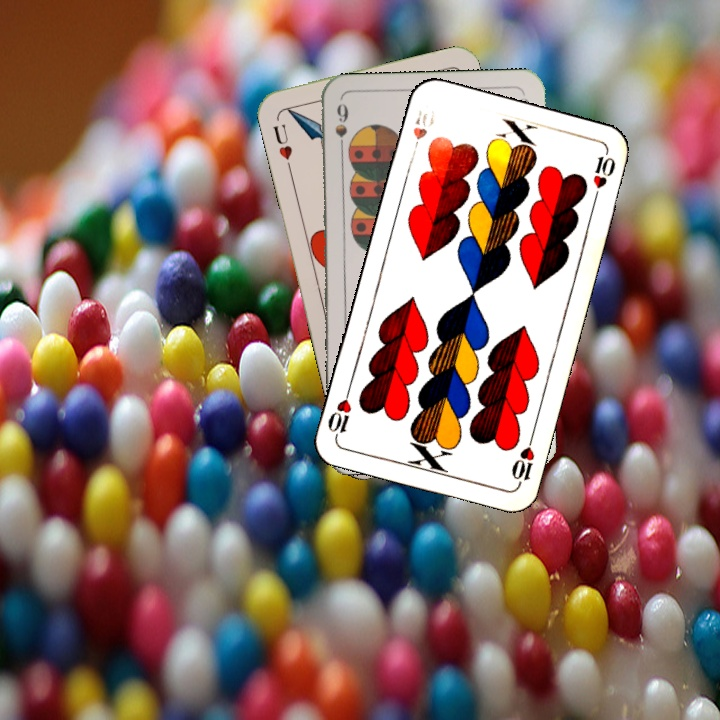H10: (507, 430, 537, 488), (407, 106, 437, 159)
HU: (269, 120, 295, 163)
S9: (331, 100, 351, 158)
